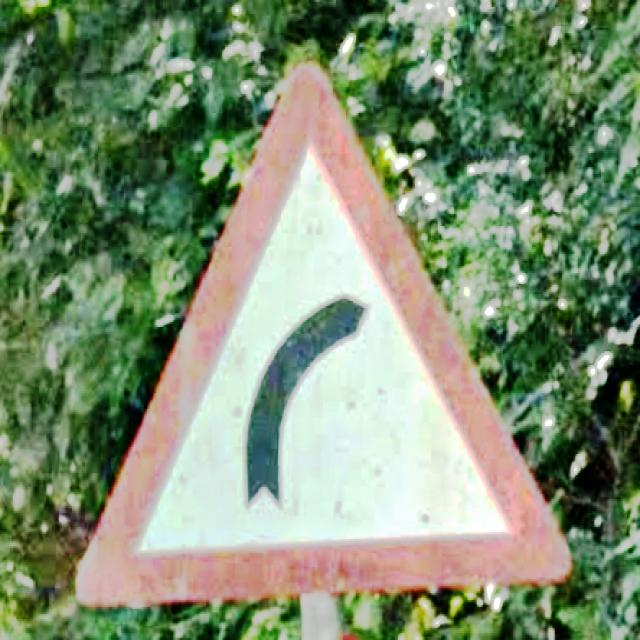rightbend: (79, 64, 572, 609)
